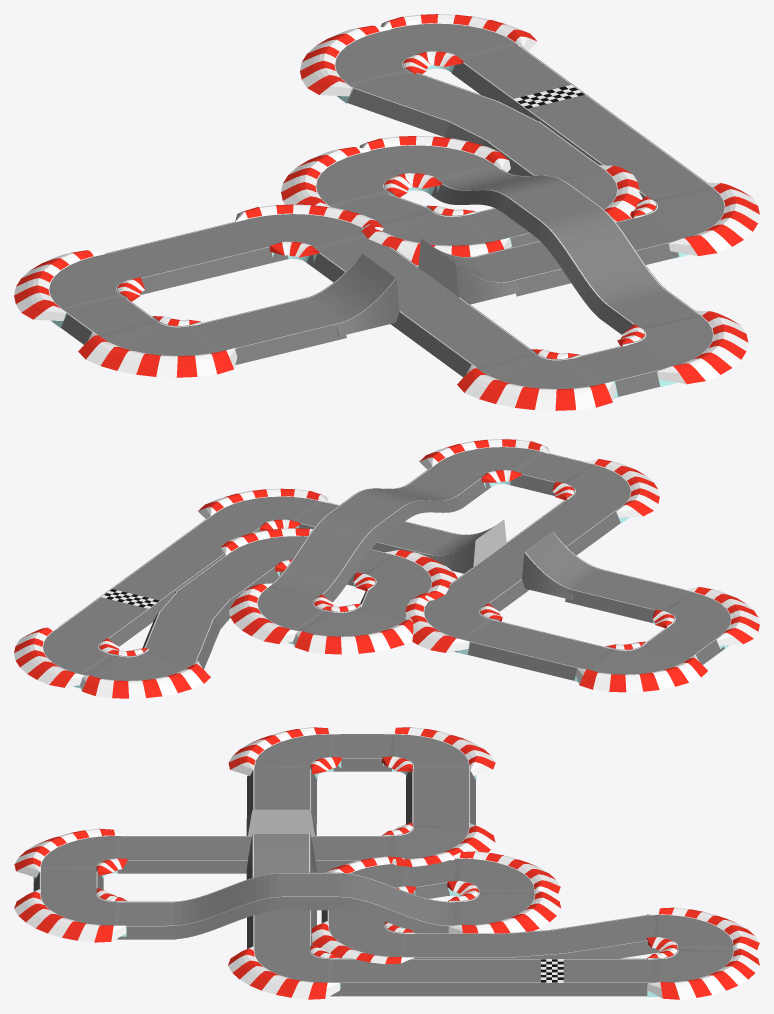
File: car.fbx
The picture shows the model from 3 angles, top to bottom: view 1: azimuth 30°, elevation 25°; view 2: azimuth 150°, elevation 25°; view 3: azimuth 270°, elevation 25°; orthographic projection. The views are drawn at different scales.
Visible parts, largest first — view 1: Overpass.005, CurvgyStreetCurbs.005, CurvgyStreetCurbs.001, CurvgyStreetCurbs.006, CurvgyStreetCurbs.002, CurvgyStreetCurbs.012, CurvgyStreetCurbs.003, CurvgyStreetCurbs.008, CurvgyStreetCurbs.011, CurvgyStreetCurbs.007, CurvgyStreetCurbs.004, CurvgyStreetCurbs.009 (+34 smaller); view 2: Overpass.006, CurvgyStreetCurbs.003, CurvgyStreetCurbs.012, CurvgyStreetCurbs.008, CurvgyStreetCurbs.011, CurvgyStreetCurbs.007, CurvgyStreetCurbs.005, CurvgyStreetCurbs.001, CurvgyStreetCurbs.004, CurvgyStreetCurbs.006, CurvgyStreetCurbs.009, CurvgyStreetCurbs.002 (+34 smaller); view 3: CurvgyStreetCurbs.011, CurvgyStreetCurbs.006, CurvgyStreetCurbs.002, Overpass.005, Overpass.006, CurvgyStreetCurbs.007, CurvgyStreetCurbs.001, CurvgyStreetCurbs.003, CurvgyStreetCurbs.005, CurvgyStreetCurbs.012, CurvgyStreetCurbs.008, CurvgyStreetCurbs.004 (+34 smaller).
Boxes of the visible parts, bbox=[...] form: Overpass.005: bbox=[534, 208, 671, 322]; CurvgyStreetCurbs.005: bbox=[457, 349, 617, 410]; CurvgyStreetCurbs.001: bbox=[78, 316, 237, 377]; CurvgyStreetCurbs.006: bbox=[617, 310, 748, 386]; CurvgyStreetCurbs.002: bbox=[630, 182, 759, 258]; CurvgyStreetCurbs.012: bbox=[300, 25, 430, 103]; CurvgyStreetCurbs.003: bbox=[14, 250, 144, 327]; CurvgyStreetCurbs.008: bbox=[281, 147, 411, 208]; CurvgyStreetCurbs.011: bbox=[381, 14, 537, 72]; CurvgyStreetCurbs.007: bbox=[359, 136, 510, 196]; CurvgyStreetCurbs.004: bbox=[235, 204, 383, 264]; CurvgyStreetCurbs.009: bbox=[361, 205, 511, 265]; Overpass.006: bbox=[270, 515, 381, 602]; CurvgyStreetCurbs.003: bbox=[574, 641, 707, 692]; CurvgyStreetCurbs.012: bbox=[80, 648, 210, 698]; CurvgyStreetCurbs.008: bbox=[293, 603, 413, 654]; CurvgyStreetCurbs.011: bbox=[14, 627, 119, 688]; CurvgyStreetCurbs.007: bbox=[229, 583, 333, 644]; CurvgyStreetCurbs.005: bbox=[552, 459, 659, 523]; CurvgyStreetCurbs.001: bbox=[652, 587, 759, 650]; CurvgyStreetCurbs.004: bbox=[404, 592, 502, 654]; CurvgyStreetCurbs.006: bbox=[419, 439, 549, 488]; CurvgyStreetCurbs.009: bbox=[353, 549, 457, 600]; CurvgyStreetCurbs.002: bbox=[198, 488, 328, 531]; CurvgyStreetCurbs.011: bbox=[647, 946, 759, 999]; CurvgyStreetCurbs.006: bbox=[14, 888, 126, 942]; CurvgyStreetCurbs.002: bbox=[228, 945, 340, 999]; Overpass.005: bbox=[166, 872, 281, 939]; Overpass.006: bbox=[339, 872, 454, 933]; CurvgyStreetCurbs.007: bbox=[448, 888, 561, 933]; CurvgyStreetCurbs.001: bbox=[228, 727, 341, 780]; CurvgyStreetCurbs.003: bbox=[381, 727, 495, 780]; CurvgyStreetCurbs.005: bbox=[14, 828, 127, 882]; CurvgyStreetCurbs.012: bbox=[646, 907, 759, 952]; CurvgyStreetCurbs.008: bbox=[447, 851, 560, 895]; CurvgyStreetCurbs.004: bbox=[382, 822, 495, 866].
Bounding box in the file's own units: 11001 × 759 × 12792.
